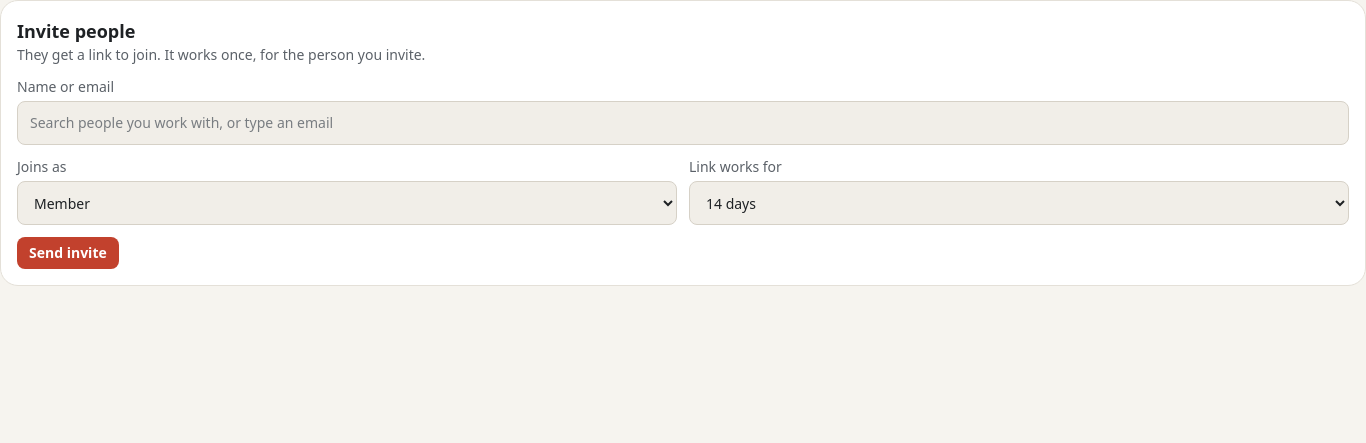
Test case: club management › the name search finds people I work with, and points to an invite link for anyone else
In the field labelled "Name or email": (683, 123) [17,101,1349,145], type "Kim"
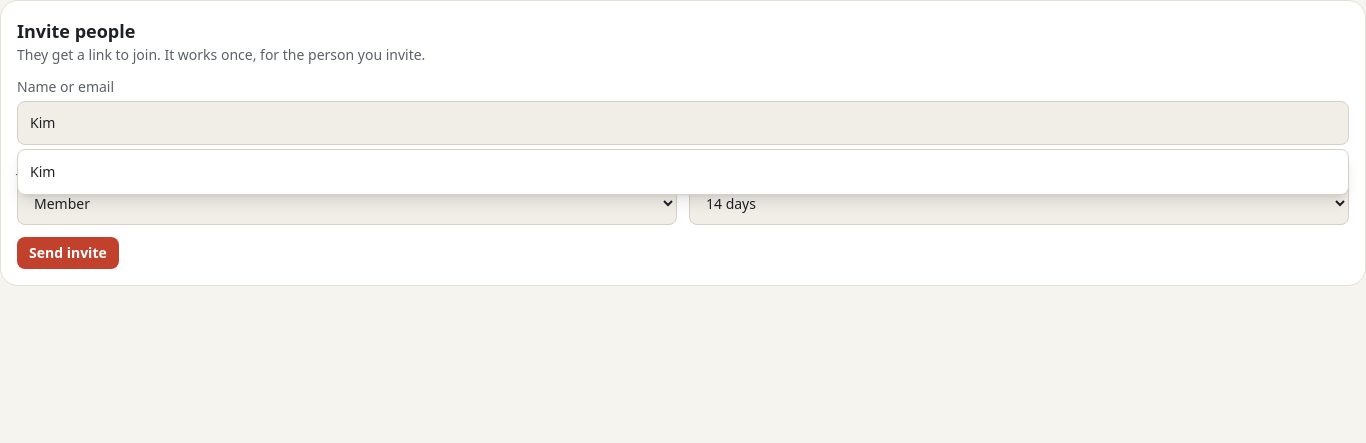
Expected: the button "Kim" is shown, [18,150,1348,194]
Replace the text in the field labelled "Name or email" with "Stella": (683, 123) [17,101,1349,145]
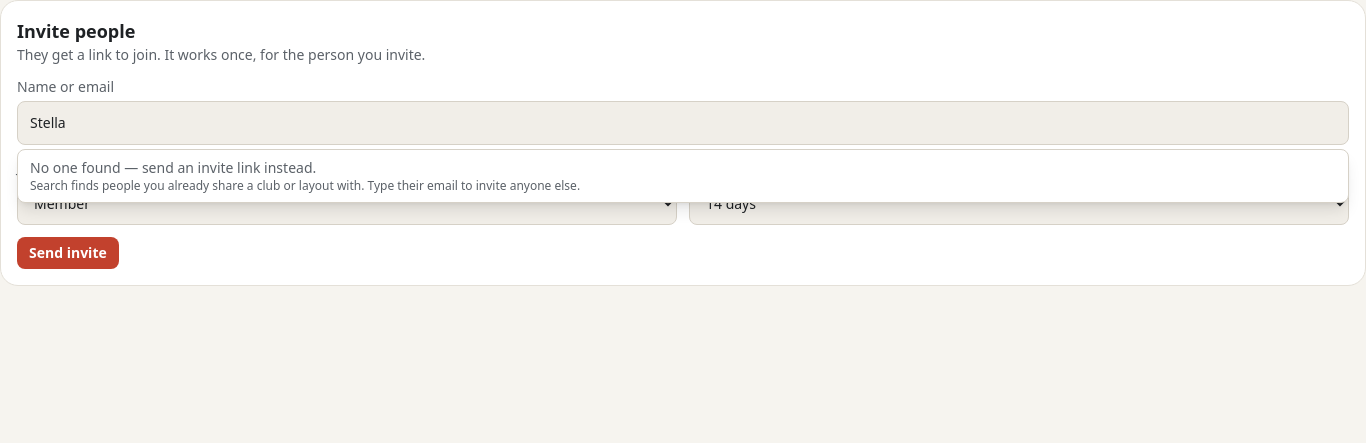
Expected: the text "No one found — send an invite link instead." is shown, [30,158,316,177]
Expected: the text "Search finds people you already share a club or layout with" is shown, [30,177,580,194]
Their email still makes an invite link.
Replace the text in the field labelled "Name or email" with "stella@x.com": (683, 123) [17,101,1349,145]
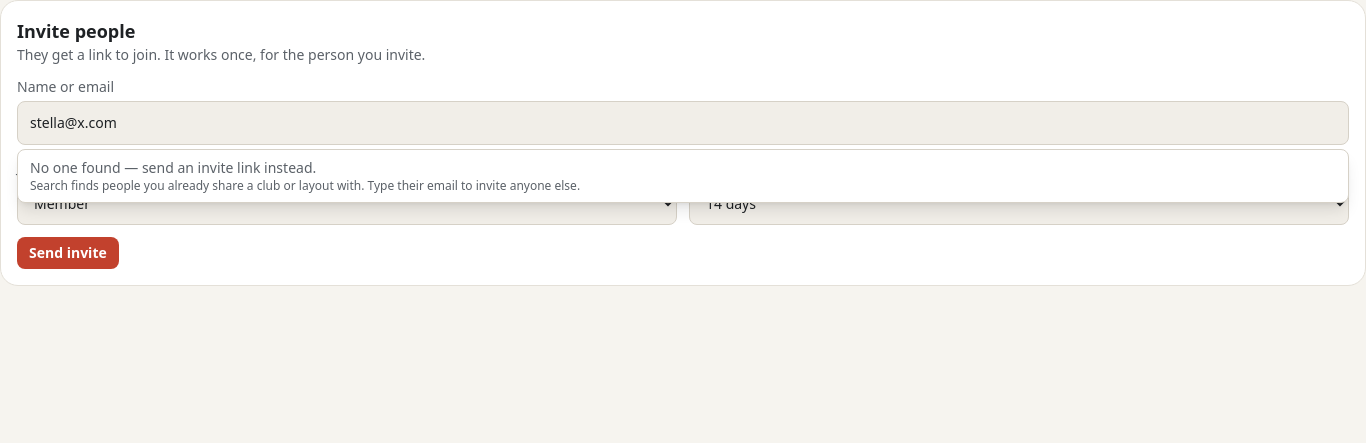
Click the button "Send invite": (68, 253) [17,237,119,269]
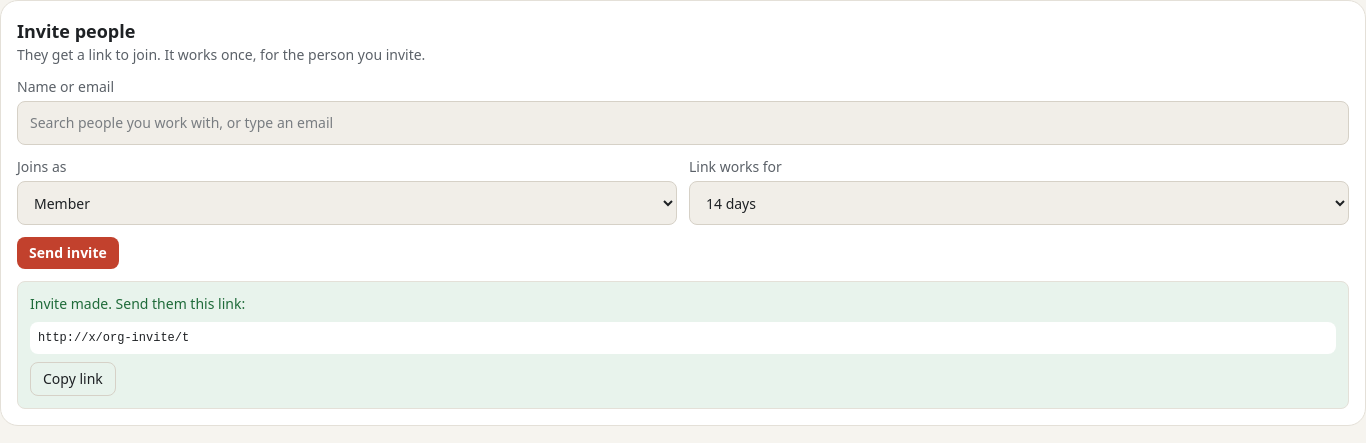
Expected: the text "http://x/org-invite/t" is shown, [30,322,1336,354]
